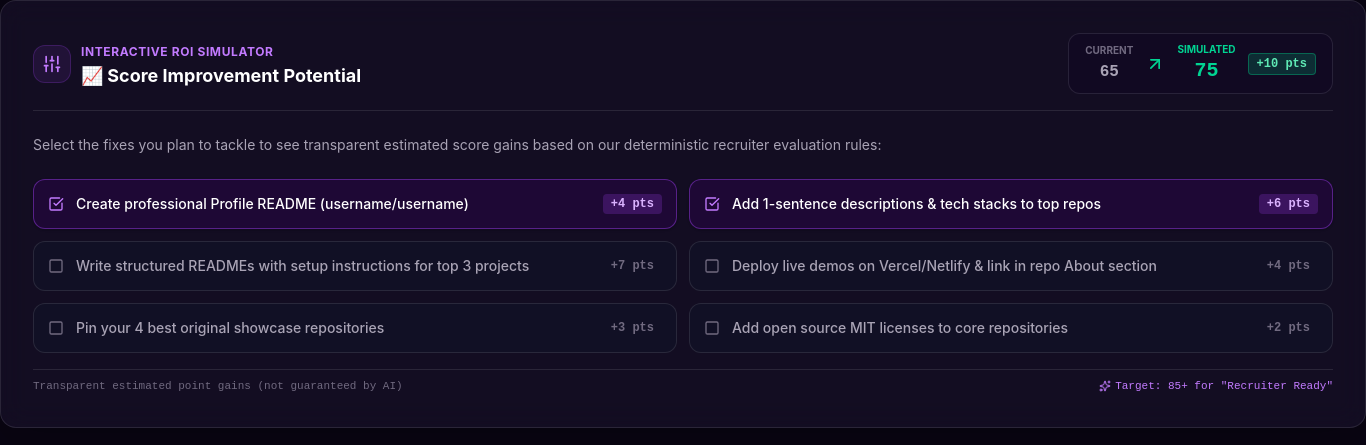
Test: ScoreSimulator Component › toggles checkbox and recalculates score improvement
Click an unchecked task to toggle it
What coordinates should you click on to do the following:
click the text "Write structured READMEs with setup instructions for top 3 projects"
I would click on:
 (333, 266)
Its box is x1=76 y1=256 x2=591 y2=276.
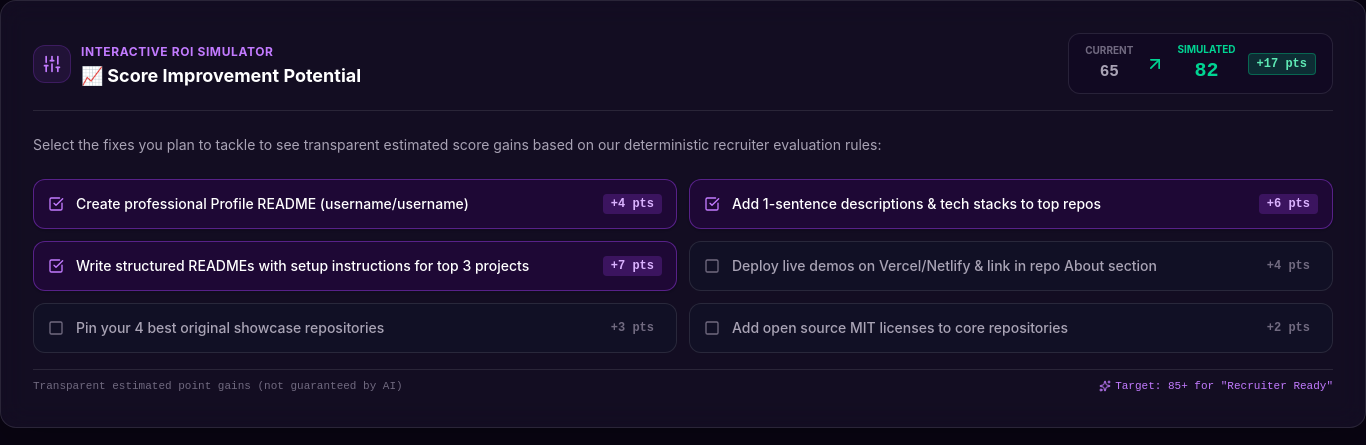
Result: the text "+17 pts" is shown at x1=1248 y1=52 x2=1316 y2=74
